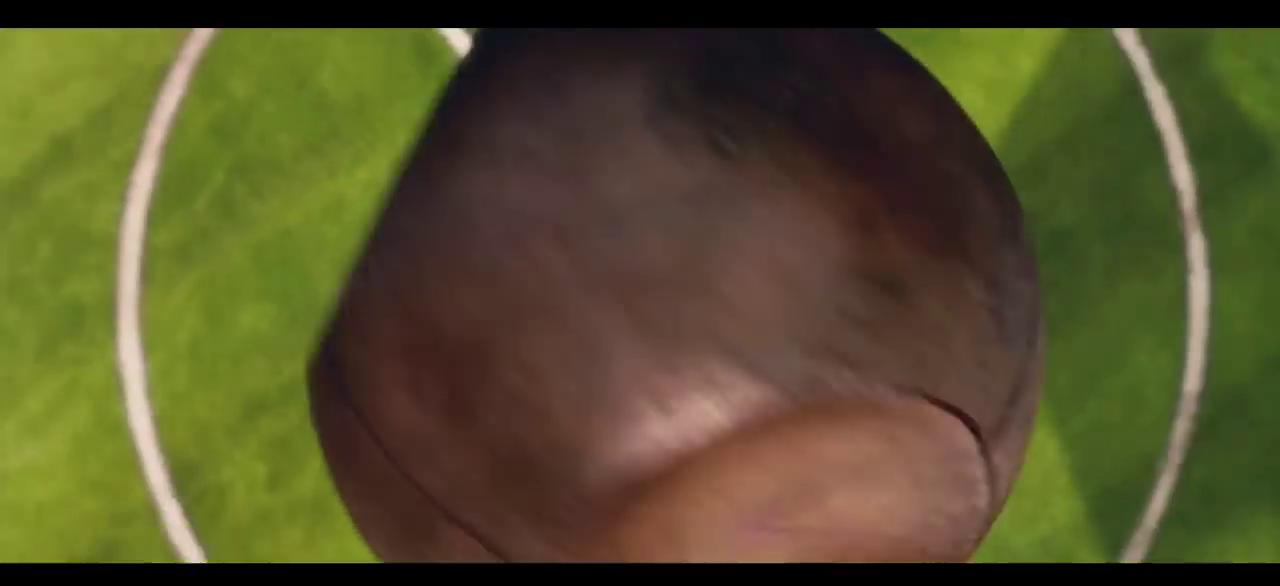quaffle: (302, 28, 1044, 562)
